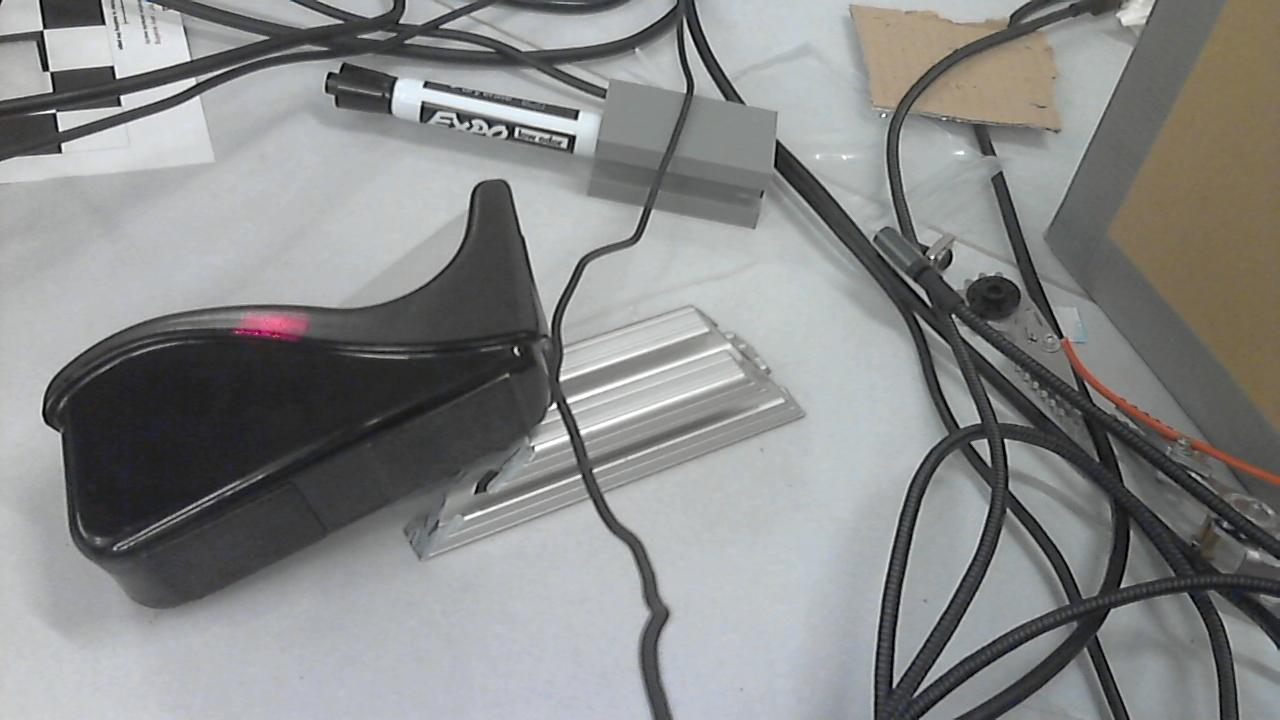Object desktop tape dispenser - Material plastic - Pdfname 8pMd29OsIRjD: (208, 296, 340, 350)
